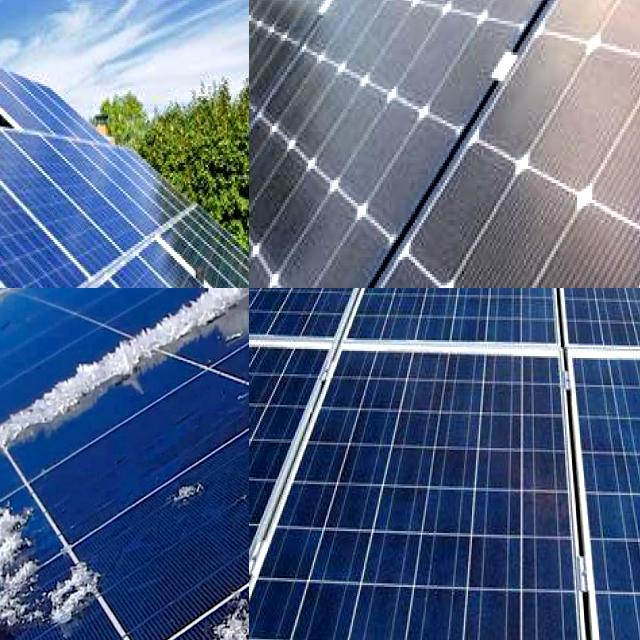crack: (249, 298, 631, 640), (249, 0, 640, 288), (319, 288, 620, 414), (0, 82, 160, 288), (0, 98, 157, 275), (0, 72, 125, 288), (556, 329, 640, 640), (0, 111, 124, 288), (249, 288, 410, 400), (534, 288, 640, 403), (539, 288, 640, 338)
panel: (0, 346, 146, 433), (0, 474, 67, 640), (155, 288, 249, 361), (0, 444, 59, 500)
